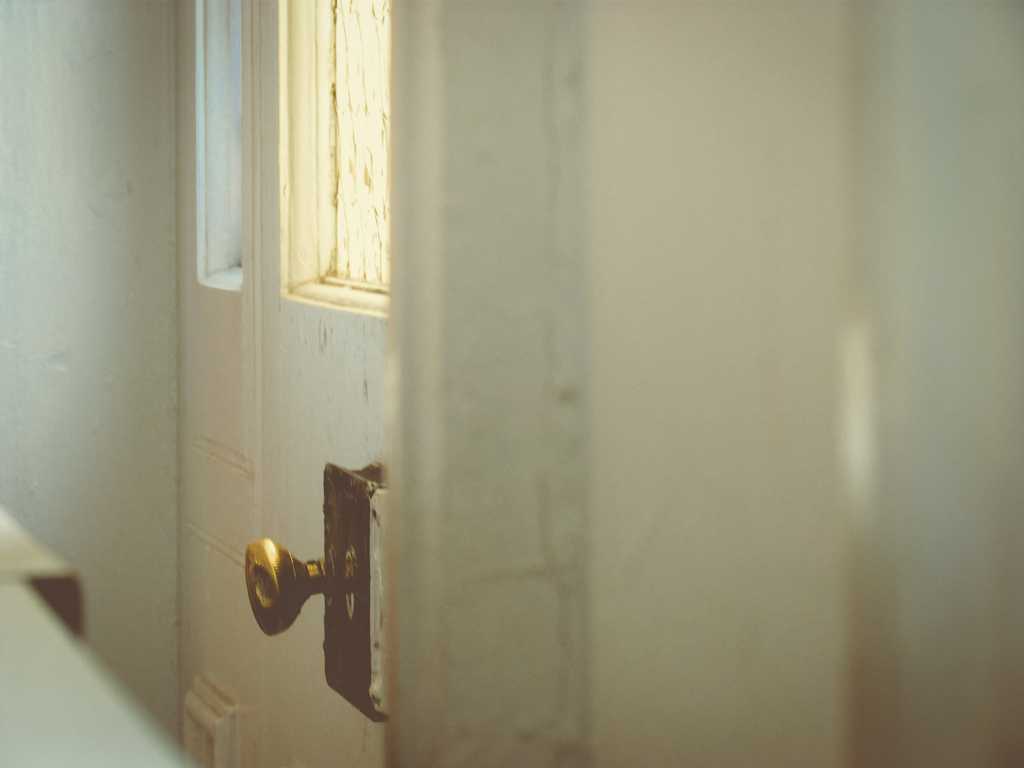door: (264, 12, 370, 759)
handle: (242, 524, 329, 641)
